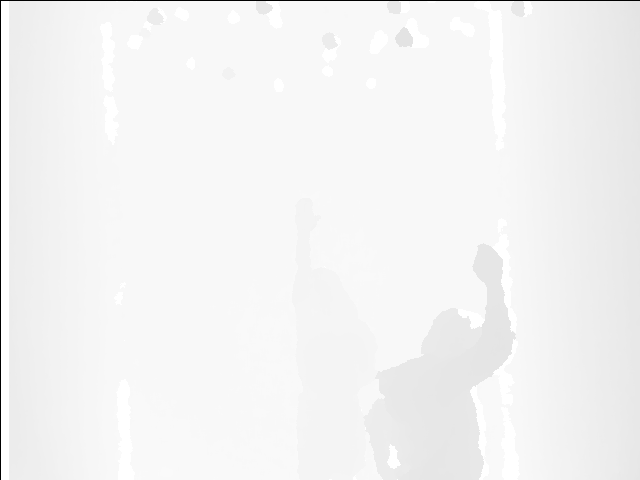hand: (473, 241, 502, 282), (292, 196, 319, 232)
